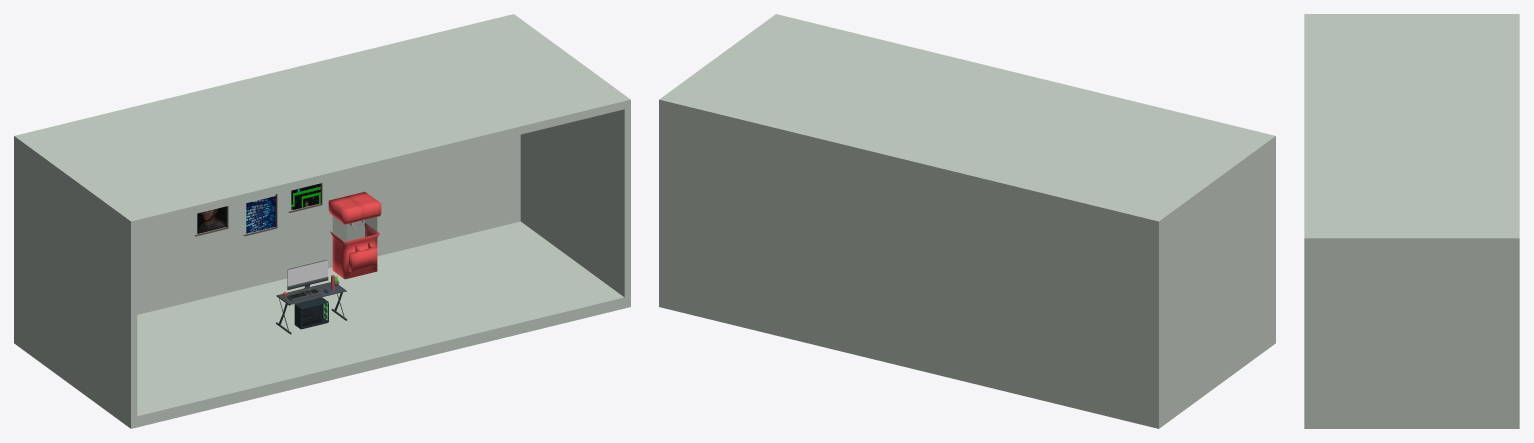
File: portfolio_animated.glb
3 renders of one model, left to right at view 1: azimuth 30°, elevation 25°; view 2: azimuth 150°, elevation 25°; view 3: azimuth 270°, elevation 25°, orthographic. The views are drawn at different scales.
Visible parts, largest first — view 1: Room, ArcadeCabinet, Painting.001, GlassCabinet, Painting, Painting.002, PC, Screen; view 2: Room; view 3: Room.
Part boxes in pixels (x1,y1,x2,y2): Room: [14, 14, 630, 428]; ArcadeCabinet: [328, 191, 381, 279]; Painting.001: [243, 194, 277, 236]; GlassCabinet: [333, 216, 377, 241]; Painting: [194, 206, 228, 236]; Painting.002: [288, 183, 322, 212]; PC: [294, 297, 328, 329]; Screen: [287, 260, 327, 286]; Room: [659, 14, 1275, 428]; Room: [1304, 14, 1519, 428].
Size of the model in its own units: 175 by 69.26 by 70.79.
26 materials, 3 textured.
